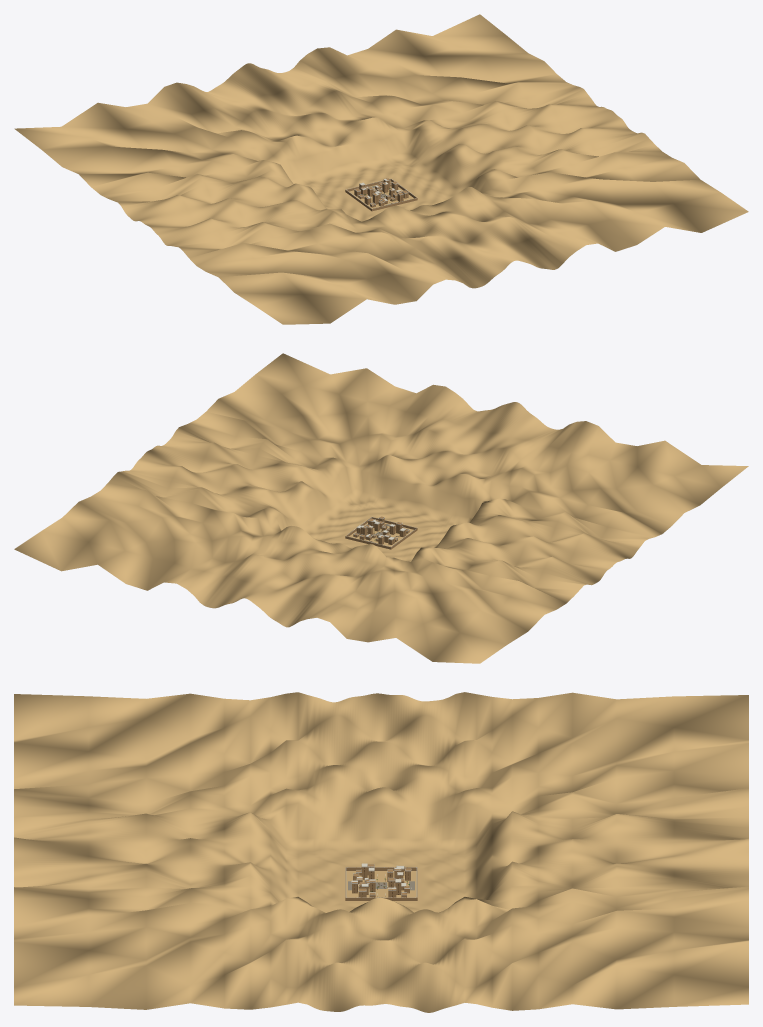
Rendered from Shibam_Hadramout.glb.
3 views of the same model, one above another, from view 1: azimuth 30°, elevation 25°; view 2: azimuth 150°, elevation 25°; view 3: azimuth 270°, elevation 25° (orthographic). The views are drawn at different scales.
Visible parts, largest first — view 1: Ground, Buildings; view 2: Ground, Buildings; view 3: Ground, Buildings, CityWall.
Part boxes in pixels (x1,y1,x2,y2): Ground: (14, 14, 748, 324); Buildings: (354, 178, 408, 207); Ground: (14, 353, 748, 663); Buildings: (353, 516, 409, 544); Ground: (14, 692, 748, 1012); Buildings: (351, 863, 411, 897); CityWall: (345, 867, 417, 900).
Bounding box in the file's own units: 1489 × 110 × 1489.
